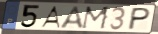3: (109, 6, 127, 32)
5: (19, 4, 43, 29)
A: (59, 5, 86, 30), (39, 5, 62, 29)
M: (81, 6, 112, 31)
P: (126, 6, 153, 31)
